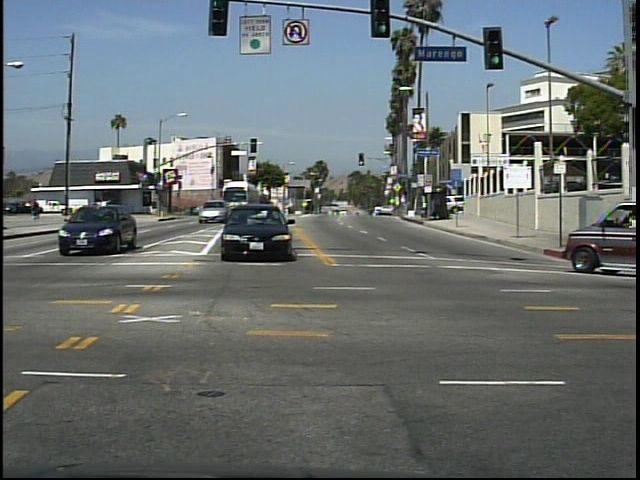person: (29, 194, 44, 222)
